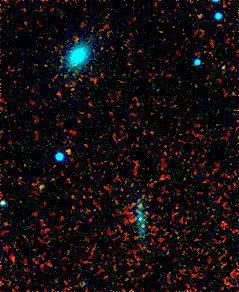star: (59, 136, 89, 166)
